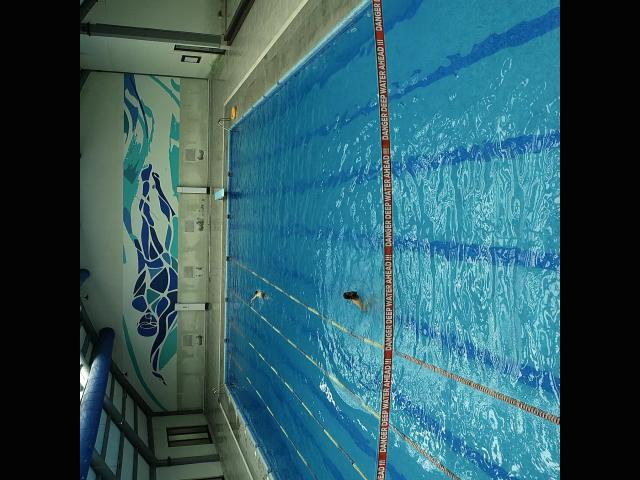swimming: (342, 288, 368, 310), (250, 288, 272, 300)
